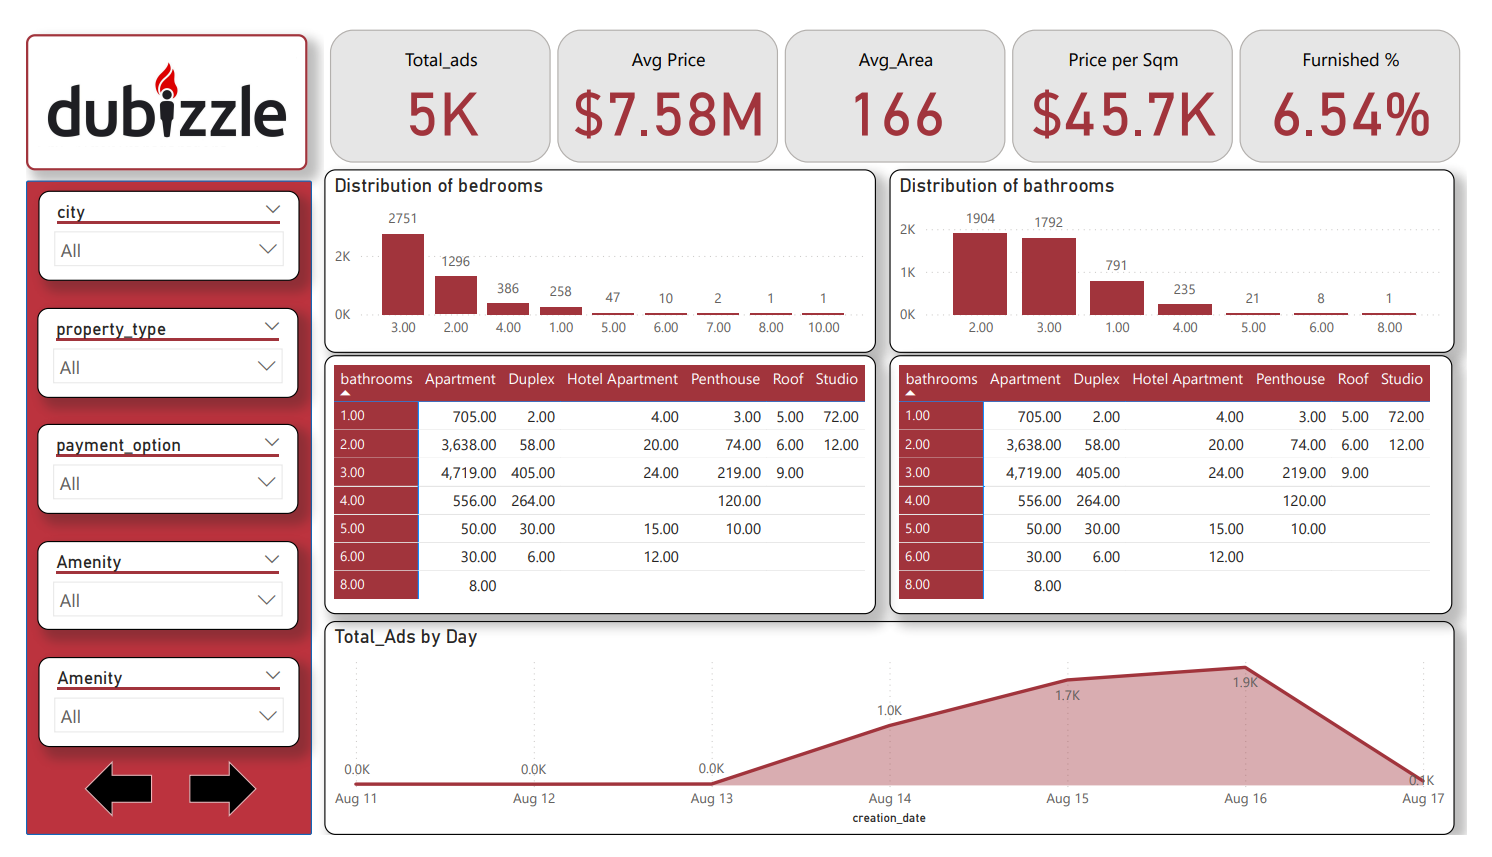

The page's visual inventory and layout, read from the dashboard file:
{"tool":"powerbi","page":{"name":"Overview","canvas":[1280,720],"ordinal":0},"visuals":[{"type":"image","box":[0,8.6,250.3,121.5],"z":0},{"type":"cardVisual","fields":{"Data":["Dax.Total_ads","Dax.Avg Price","Dax.Avg_Area","Dax.Price per Sqm","Dax.Furnished %"]},"box":[265,0,1014.7,128.8],"z":1000},{"type":"shape","box":[0,138.7,254,581.6],"z":2000},{"type":"lineChart","title":"Total_Ads by Day","fields":{"Y":["CountNonNull(Dubizzle_properties.ad_id)"],"Category":["Dubizzle_properties.creation_date.Variation.Date Hierarchy.Month"]},"box":[265,530.1,1003.7,190.2],"z":3000},{"type":"slicer","fields":{"Values":["Dubizzle_properties.city"]},"box":[11,148.5,231.9,79.8],"z":4000},{"type":"slicer","fields":{"Values":["Dubizzle_properties.property_type"]},"box":[9.8,251.8,231.9,79.8],"z":5000},{"type":"slicer","fields":{"Values":["Dubizzle_properties.payment_option"]},"box":[10.1,355.2,231.9,79.8],"z":6000},{"type":"slicer","fields":{"Values":["AmenitiesTable.Amenity"]},"box":[10.4,458.6,231.9,79.8],"z":7000},{"type":"slicer","fields":{"Values":["AmenitiesTable.Amenity"]},"box":[10.7,562,231.9,79.8],"z":8000},{"type":"shape","box":[144.8,654,60.1,50.3],"z":9000},{"type":"shape","box":[51.5,654,60.1,50.3],"z":10000},{"type":"columnChart","title":"Distribution of bedrooms","fields":{"Category":["Dubizzle_properties.bedrooms"],"Y":["CountNonNull(Dubizzle_properties.bedrooms)"]},"box":[265,128.8,489.6,163.2],"z":11000},{"type":"columnChart","title":"Distribution of bathrooms","fields":{"Category":["Dubizzle_properties.bathrooms"],"Y":["CountNonNull(Dubizzle_properties.bathrooms)"]},"box":[766.9,128.8,501.8,163.2],"z":12000},{"type":"pivotTable","fields":{"Rows":["Dubizzle_properties.bathrooms"],"Columns":["Dubizzle_properties.property_type"],"Values":["Sum(Dubizzle_properties.bathrooms)"]},"box":[766.9,294.5,500.6,229.4],"z":13000},{"type":"pivotTable","fields":{"Rows":["Dubizzle_properties.bathrooms"],"Columns":["Dubizzle_properties.property_type"],"Values":["Sum(Dubizzle_properties.bathrooms)"]},"box":[265,294.5,489.6,229.4],"z":14000}]}

Visuals, with their boxes in screenshot pixels (x1, y1, x2, y2), scaled from the page's 1280x720 canvas onto the 1492x857 screenshot:
image: locate(0, 10, 292, 155)
cardVisual - Dax.Total_ads x Dax.Avg Price: locate(309, 0, 1491, 153)
shape: locate(0, 165, 296, 856)
"Total_Ads by Day" lineChart: locate(309, 631, 1479, 856)
slicer - Dubizzle_properties.city: locate(13, 177, 283, 272)
slicer - Dubizzle_properties.property_type: locate(11, 300, 282, 395)
slicer - Dubizzle_properties.payment_option: locate(12, 423, 282, 518)
slicer - AmenitiesTable.Amenity: locate(12, 546, 282, 641)
slicer - AmenitiesTable.Amenity: locate(12, 669, 283, 764)
shape: locate(169, 778, 239, 838)
shape: locate(60, 778, 130, 838)
"Distribution of bedrooms" columnChart: locate(309, 153, 880, 348)
"Distribution of bathrooms" columnChart: locate(894, 153, 1479, 348)
pivotTable - Dubizzle_properties.bathrooms x Dubizzle_properties.property_type: locate(894, 351, 1477, 624)
pivotTable - Dubizzle_properties.bathrooms x Dubizzle_properties.property_type: locate(309, 351, 880, 624)
